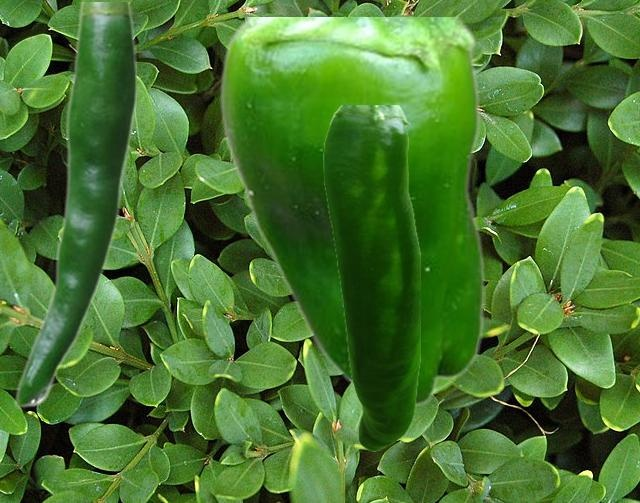green_chili: (218, 17, 484, 407), (13, 2, 135, 407), (323, 105, 419, 450)
